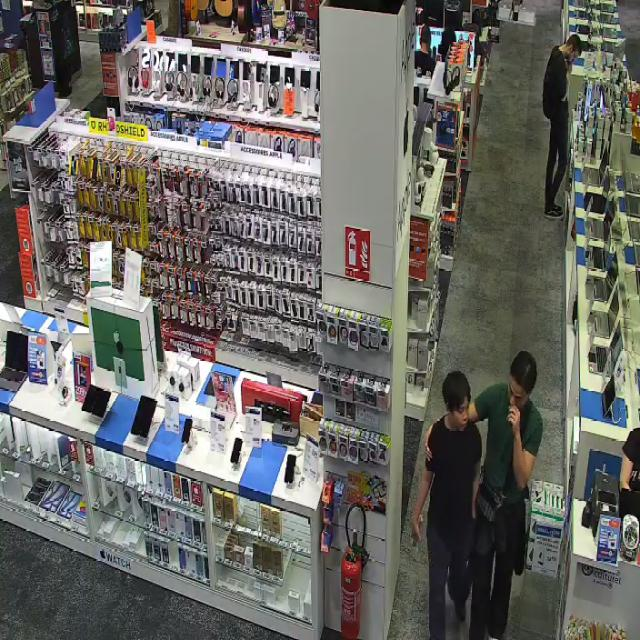bags: (475, 456, 513, 523)
hands: (507, 405, 522, 439), (410, 516, 423, 548), (425, 424, 433, 459)
person: (469, 351, 542, 639), (412, 370, 481, 639), (543, 34, 581, 219)
